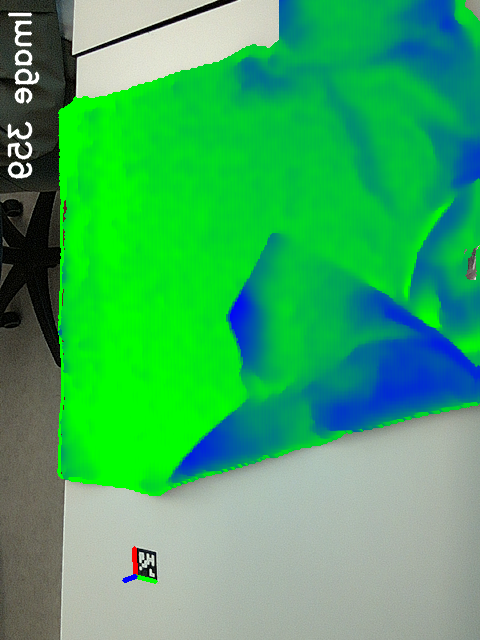V: (242, 209, 320, 271)
